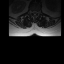CCS_normal: (34, 9, 35, 16)
LFS_normal: (37, 9, 38, 14)
LLS_normal: (35, 9, 37, 15)
RFS_normal: (31, 9, 32, 14)
RLS_normal: (32, 9, 34, 14)
